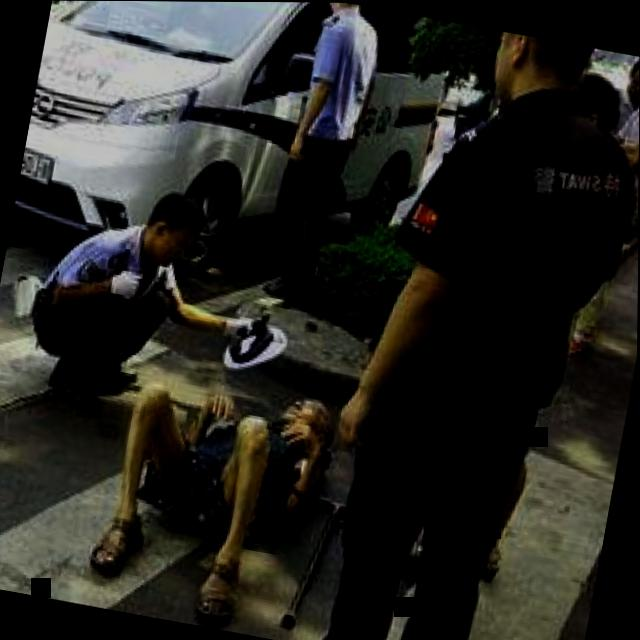Fall-Detected: (76, 333, 363, 631)
